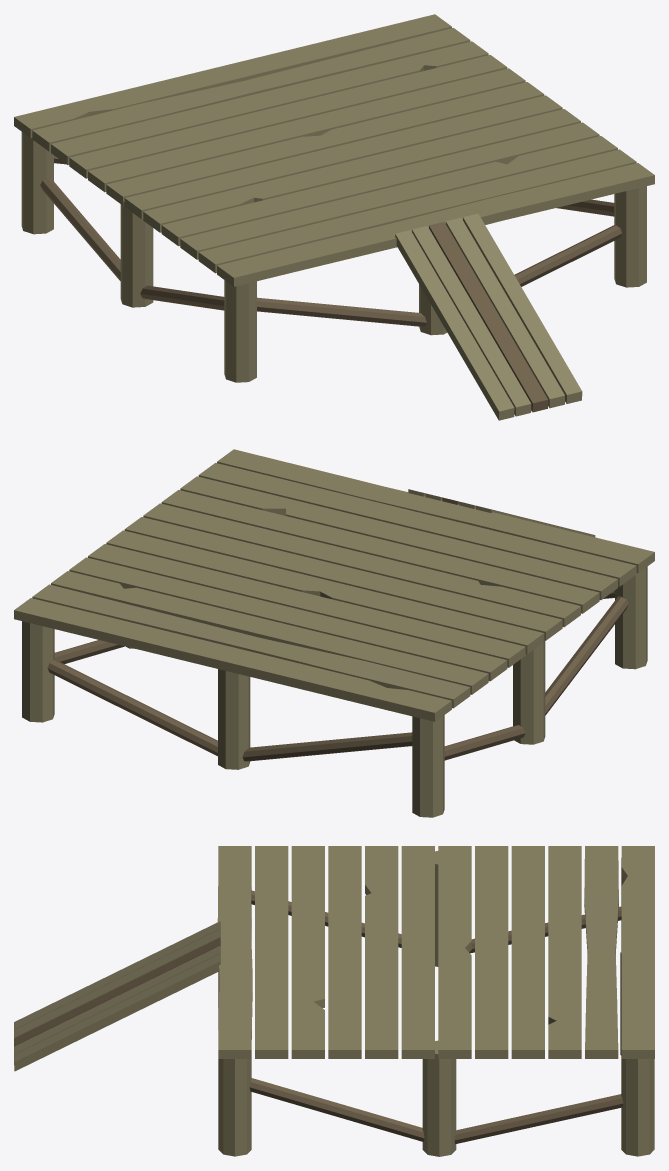
File: house1.fbx
3 renders of one model, top to bottom at view 1: azimuth 30°, elevation 25°; view 2: azimuth 150°, elevation 25°; view 3: azimuth 270°, elevation 25°, orthographic.
Parts seen in each view (by area): view 1: Cylinder; view 2: Cylinder; view 3: Cylinder.
Boxes of the visible parts, left/top/right/bottom form: Cylinder: left=14, top=14, right=654, bottom=420; Cylinder: left=14, top=449, right=654, bottom=817; Cylinder: left=14, top=846, right=654, bottom=1156.
Bounding box in the file's own units: 1069 × 271 × 1419.
